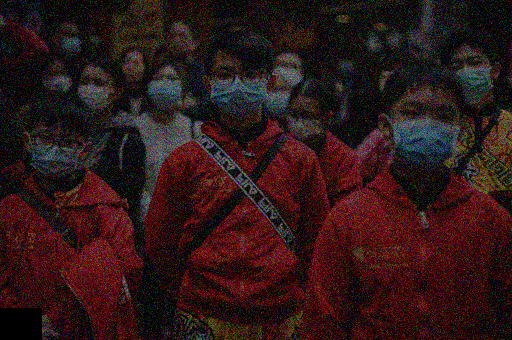with_mask: (390, 99, 462, 167), (209, 63, 268, 118), (29, 125, 86, 177), (447, 54, 492, 105), (78, 74, 114, 114), (287, 107, 324, 141), (147, 73, 182, 107), (262, 81, 292, 118), (271, 59, 305, 87), (44, 69, 72, 96), (58, 29, 85, 54)
without_mask: (121, 57, 145, 82), (168, 31, 192, 55)
